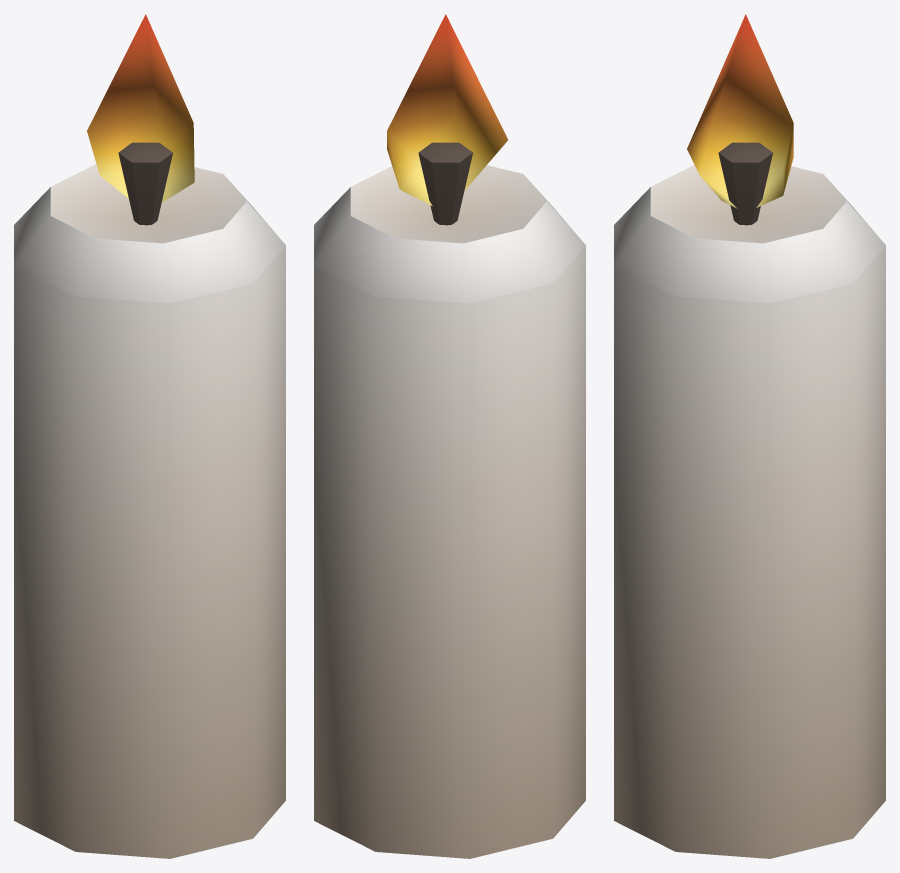
Rendered from cc0-candle-lit-lod1.glb.
The picture shows the model from 3 angles, left to right: view 1: azimuth 30°, elevation 25°; view 2: azimuth 150°, elevation 25°; view 3: azimuth 270°, elevation 25°; orthographic projection.
Parts seen in each view (by area): view 1: part_0; view 2: part_0; view 3: part_0.
Part boxes in pixels (<box>): part_0: <box>14,14,285,858</box>; part_0: <box>314,14,585,858</box>; part_0: <box>614,14,885,858</box>.
Size of the model in its own units: 0.3344 by 1.05 by 0.3293.
1 material, 1 textured.
